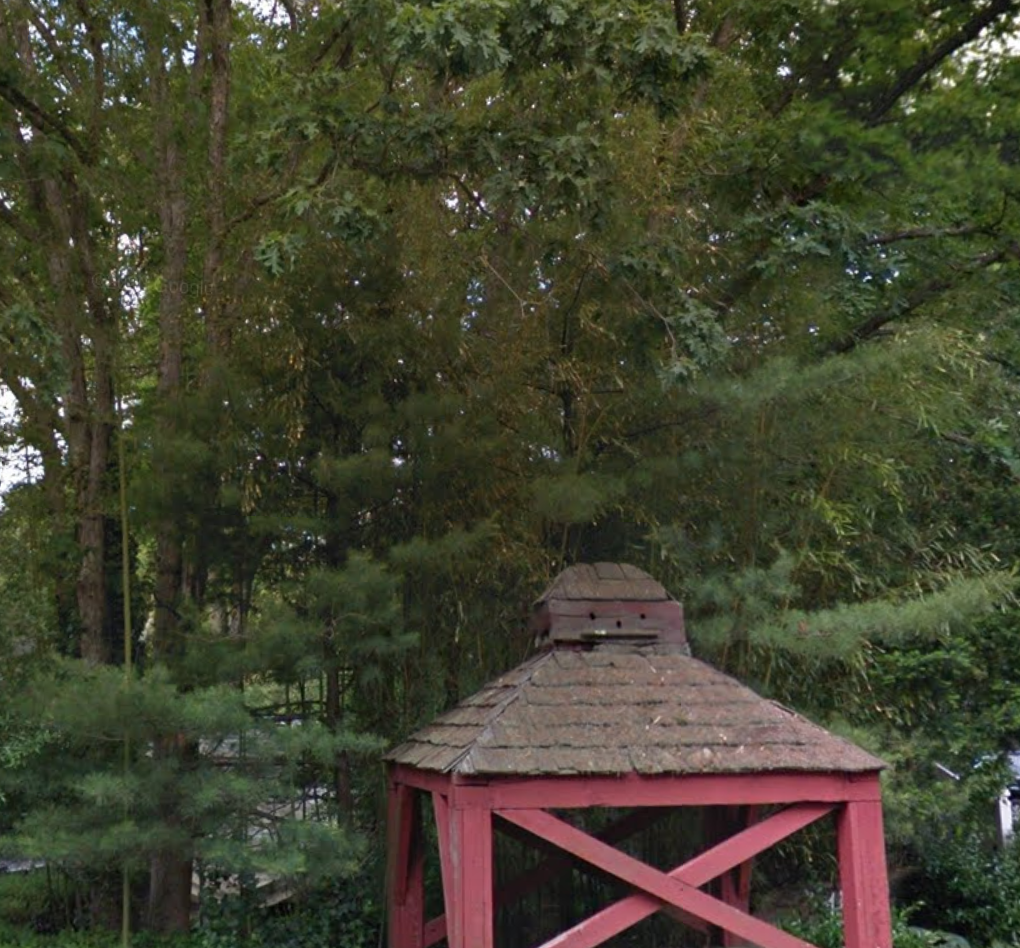bamboo: (385, 189, 653, 548), (668, 341, 931, 596), (379, 563, 544, 641), (687, 615, 850, 663)
